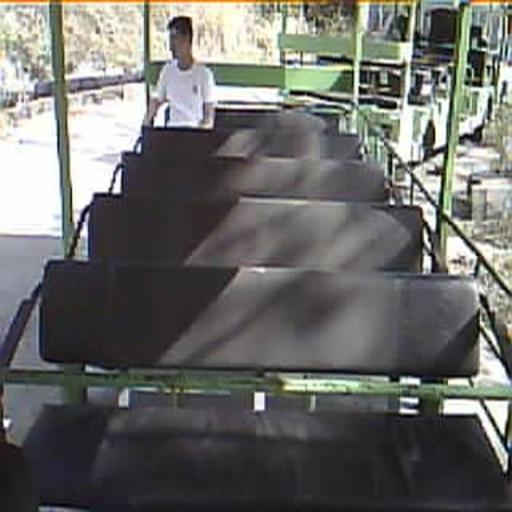persona: (146, 15, 218, 130)
